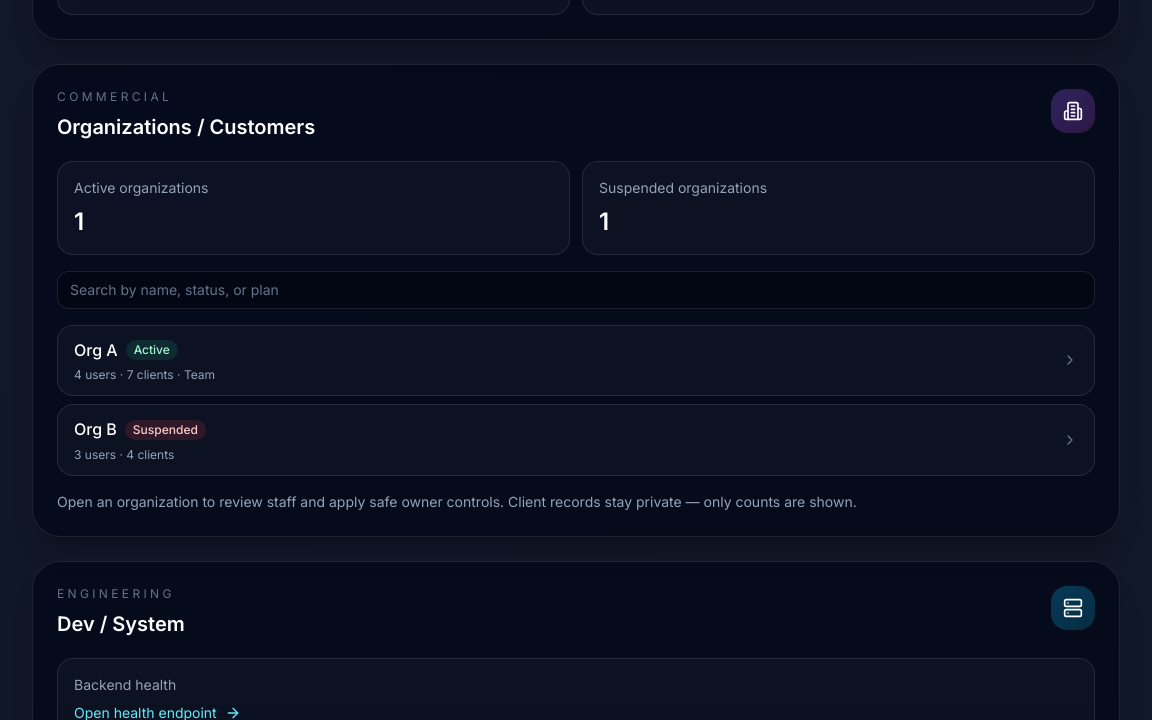
Test: Owner Cockpit organizations management › opens an org detail drawer with summary and staff list
(page scrolled)
Click the button "Org A Active 4 users · 7 clients · Team" at (96, 350), box [57,325,1095,396]
(page scrolled)
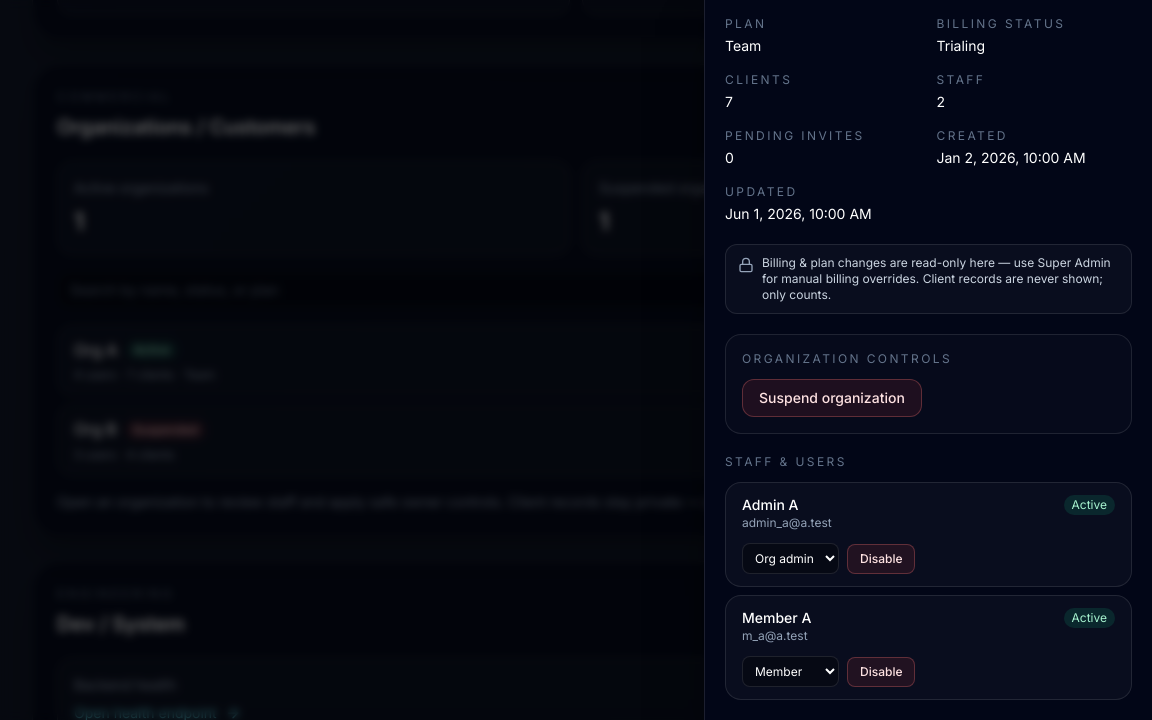
Check: the text "admin_a@a.test" is shown, box [742,515,832,531]
Check: the text "m_a@a.test" is shown, box [742,628,811,644]
